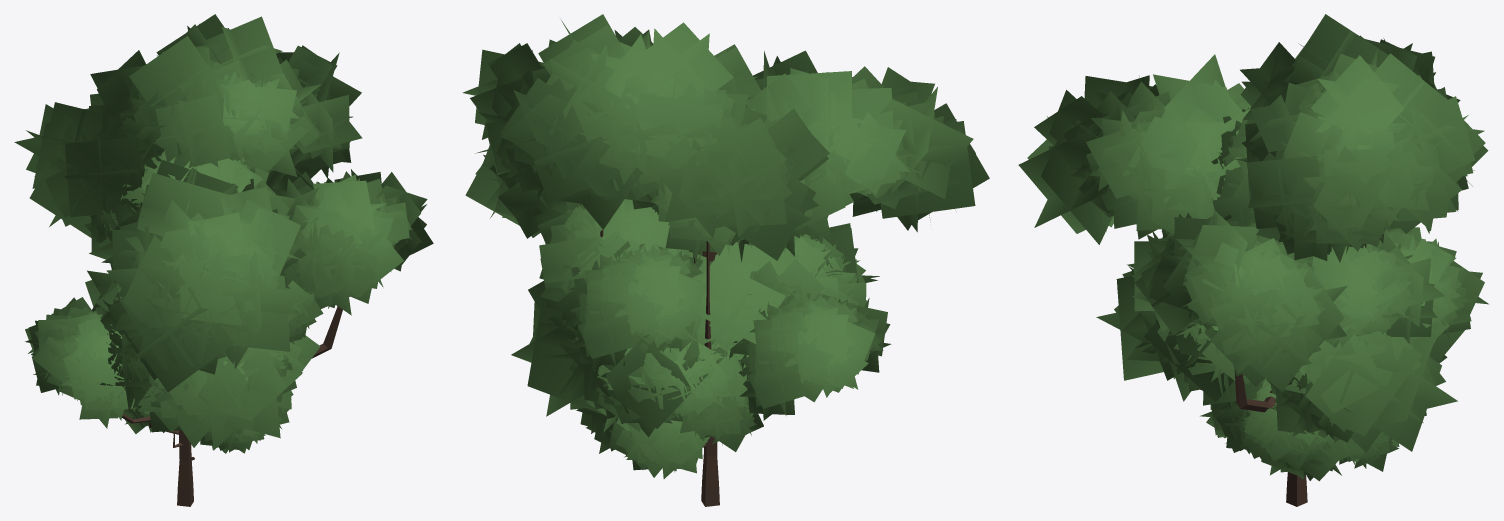
File: Trees 1.fbx
The picture shows the model from 3 angles, left to right: view 1: azimuth 30°, elevation 25°; view 2: azimuth 150°, elevation 25°; view 3: azimuth 270°, elevation 25°; orthographic projection. The views are drawn at different scales.
Visible parts, largest first — view 1: Jungle Tree 5 LOD 0, Jungle Tree 6 LOD 0, Jungle Tree 2 LOD 0, Jungle Tree 3 LOD 0, Jungle Tree 4 LOD 0; view 2: Jungle Tree 5 LOD 0, Jungle Tree 6 LOD 0, Jungle Tree 2 LOD 0, Jungle Tree 3 LOD 0, Jungle Tree 4 LOD 0, Jungle Tree 1 LOD 0; view 3: Jungle Tree 5 LOD 0, Jungle Tree 6 LOD 0, Jungle Tree 2 LOD 0, Jungle Tree 4 LOD 0, Jungle Tree 1 LOD 0, Jungle Tree 3 LOD 0.
Part boxes in pixels (box(x1,y1,x2,y2)): Jungle Tree 5 LOD 0: box(14, 14, 433, 506); Jungle Tree 6 LOD 0: box(85, 270, 320, 450); Jungle Tree 2 LOD 0: box(84, 150, 302, 461); Jungle Tree 3 LOD 0: box(119, 280, 323, 410); Jungle Tree 4 LOD 0: box(96, 155, 295, 434); Jungle Tree 5 LOD 0: box(462, 14, 989, 506); Jungle Tree 6 LOD 0: box(511, 223, 879, 428); Jungle Tree 2 LOD 0: box(534, 99, 866, 453); Jungle Tree 3 LOD 0: box(586, 234, 865, 432); Jungle Tree 4 LOD 0: box(569, 108, 826, 435); Jungle Tree 1 LOD 0: box(602, 343, 753, 478); Jungle Tree 5 LOD 0: box(1018, 14, 1488, 506); Jungle Tree 6 LOD 0: box(1096, 229, 1464, 452); Jungle Tree 2 LOD 0: box(1134, 108, 1444, 471); Jungle Tree 4 LOD 0: box(1211, 131, 1431, 442); Jungle Tree 1 LOD 0: box(1200, 372, 1399, 481); Jungle Tree 3 LOD 0: box(1127, 231, 1435, 415).
Size of what is drawn, in the model's own units: 6617 by 7277 by 6399.
